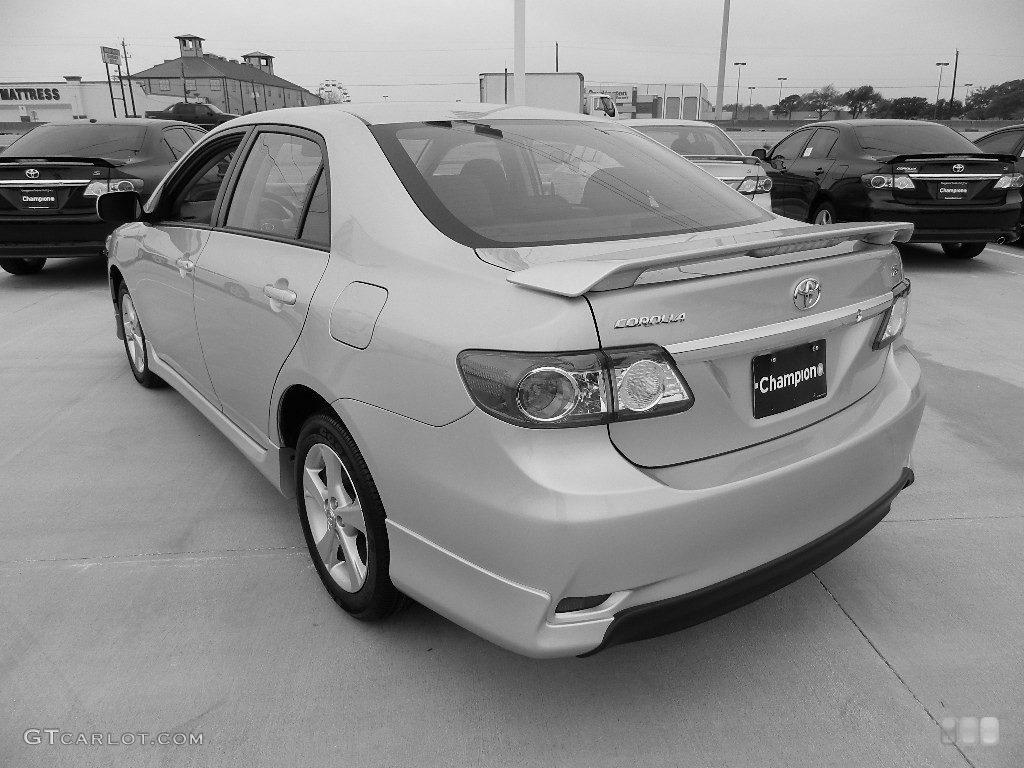car: (95, 89, 932, 673)
